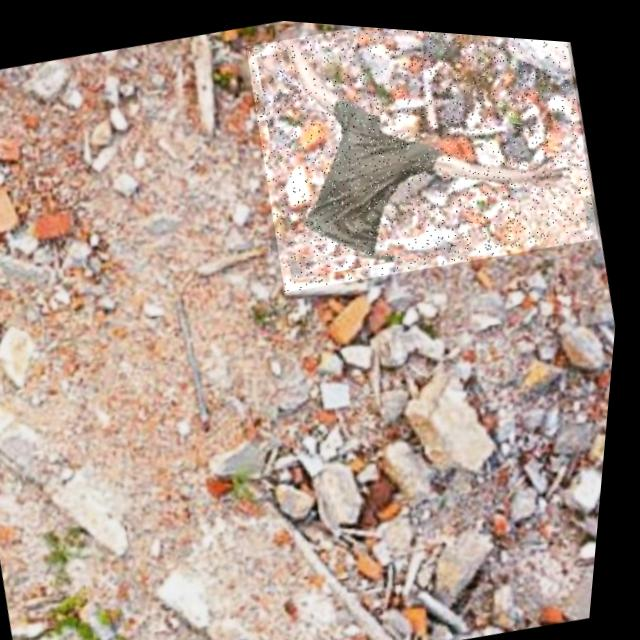Person in Rubble: (229, 14, 615, 305)
